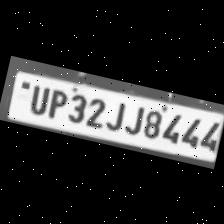2: (80, 92, 110, 128)
3: (62, 87, 89, 124)
4: (158, 107, 186, 144), (178, 110, 204, 148), (197, 115, 223, 150)
8: (137, 104, 164, 140)
J: (102, 96, 128, 132), (120, 100, 146, 136)
P: (43, 84, 69, 120)
U: (23, 79, 52, 115)
